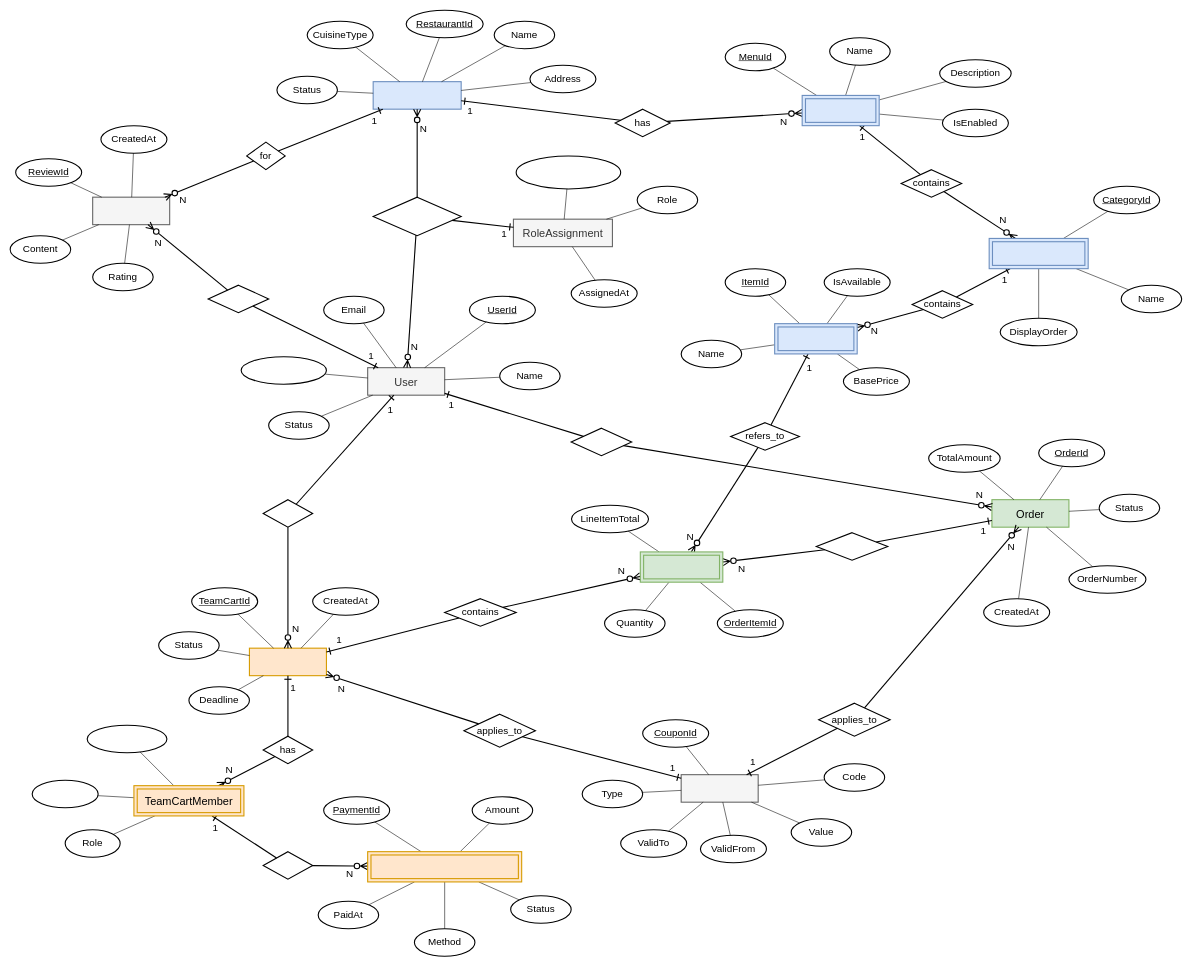
Image size: 1191x966. Some labels were removed from this diagram. Each missing label, with the centre of its shape:
assigned_role: (416,216)
Coupon: (719,788)
hosts: (287,513)
includes: (851,546)
MemberId: (64,793)
MemberName: (126,738)
Menu: (840,110)
MenuCategory: (1038,253)
MenuItem: (815,338)
OrderItem: (681,566)
pays: (287,865)
PhoneNumber: (283,370)
places: (601,441)
Restaurant: (416,95)
Review: (131,210)
RoleAssignmentId: (568,172)
TeamCart: (288,661)
TeamCartMemberPayment: (444,866)
writes: (238,298)
